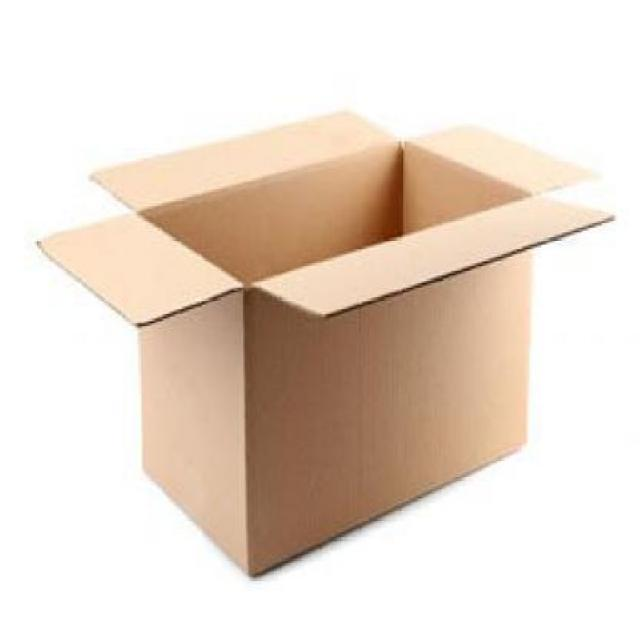box: (32, 109, 621, 582)
